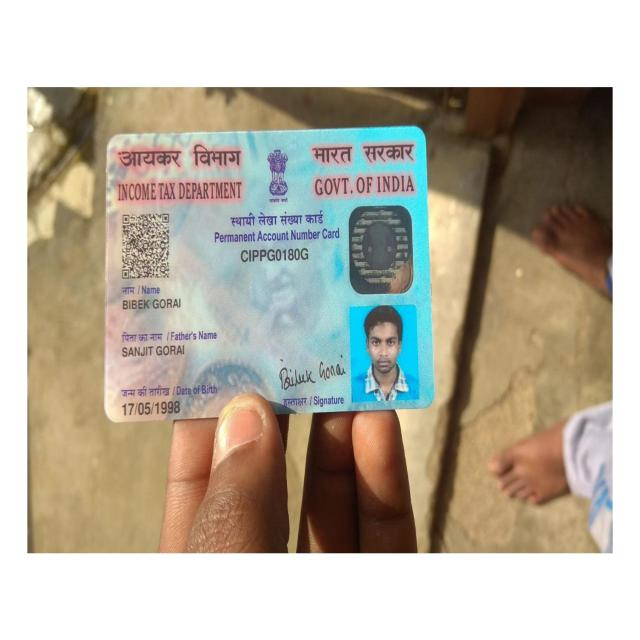pan_card: (109, 133, 432, 429)
